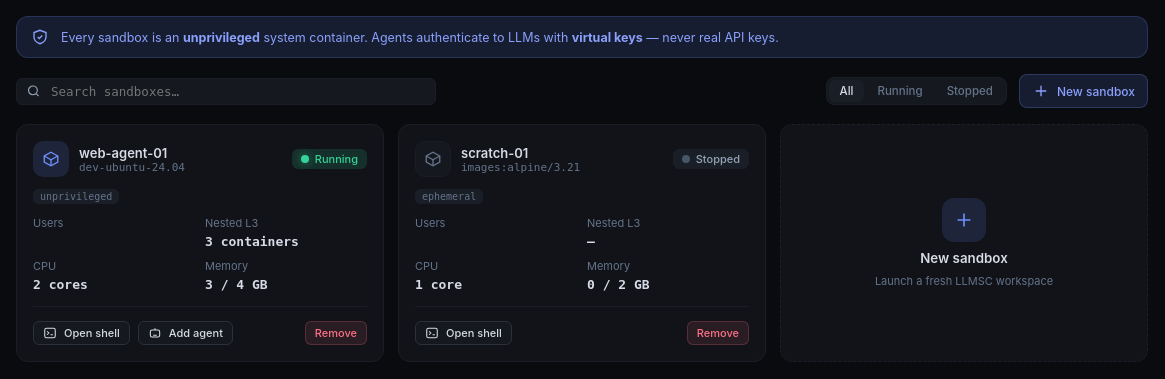
Test: Sandboxes › lists sandboxes as cards and filters by status
Expected: the button "web-agent-01" is shown, [79,144,167,160]
Expected: the button "scratch-01" is shown, [461,144,528,160]
Click the button "Running" at (900, 91), box [866,80,934,102]
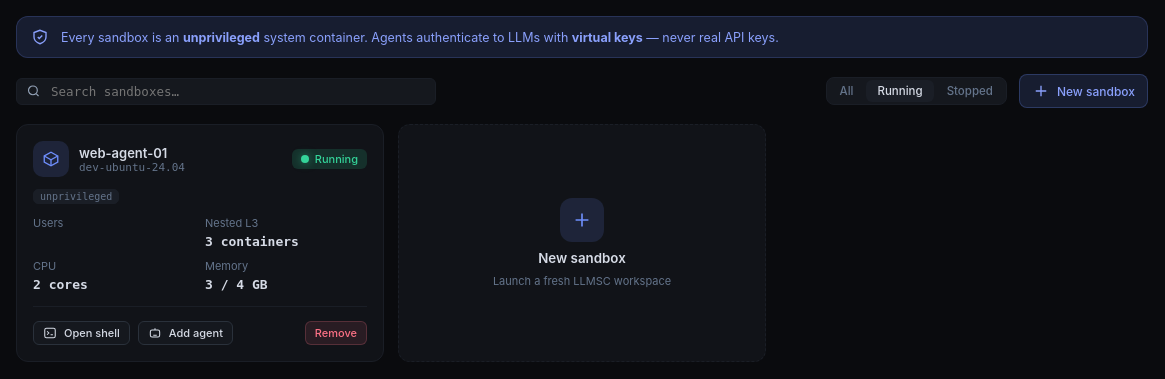
Expected: the button "web-agent-01" is shown, [79,144,167,160]
Expected: the button "scratch-01" is gone
